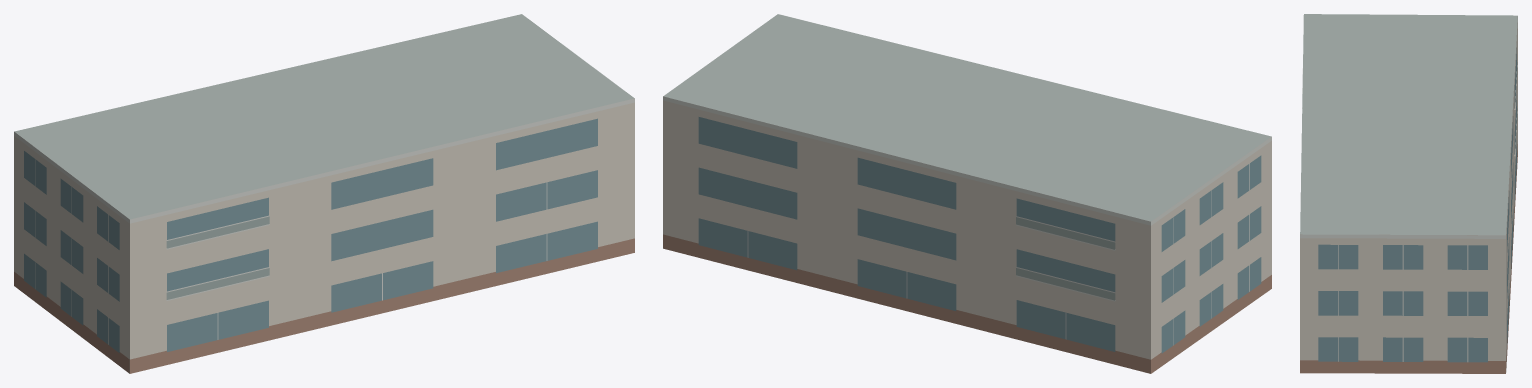
File: survey-upis-32593645.glb
3 views of the same model, side by side, from view 1: azimuth 30°, elevation 25°; view 2: azimuth 150°, elevation 25°; view 3: azimuth 270°, elevation 25° (orthographic). The views are drawn at different scales.
Visible parts, largest first — view 1: survey-upis-32593645.tmp; view 2: survey-upis-32593645.tmp; view 3: survey-upis-32593645.tmp.
Boxes of the visible parts, <box> form: survey-upis-32593645.tmp: <box>14,14,634,373</box>; survey-upis-32593645.tmp: <box>663,14,1271,373</box>; survey-upis-32593645.tmp: <box>1300,14,1517,373</box>.
Size of the model in its own units: 31.31 by 9.15 by 13.03.
